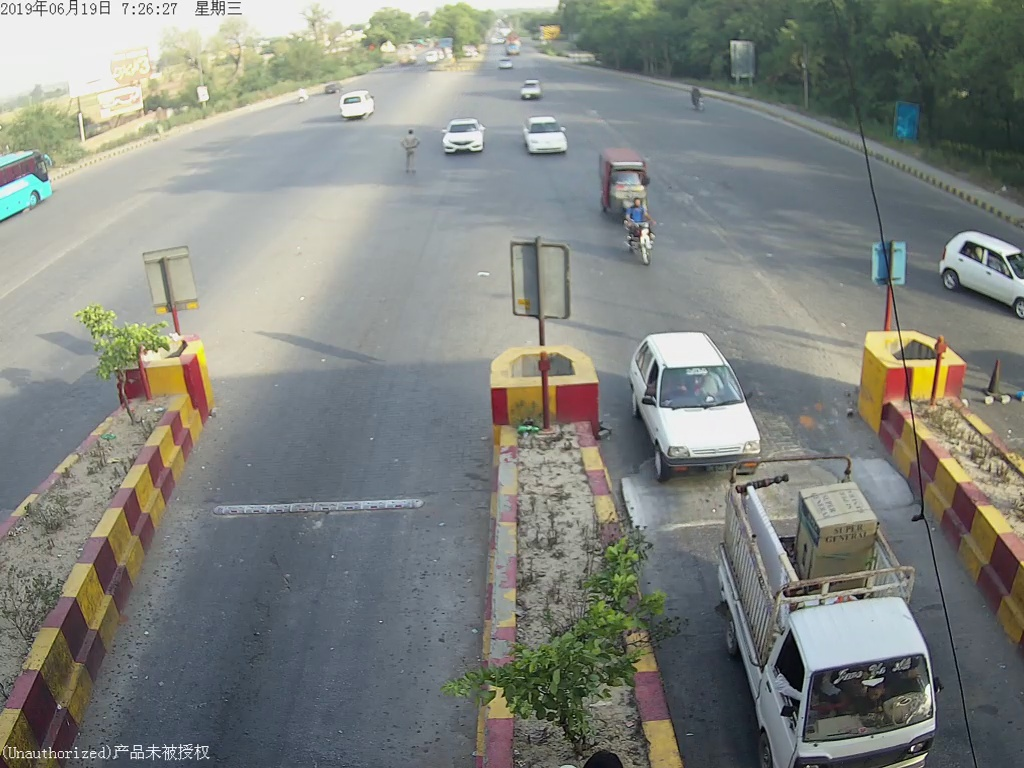Cat-1: (726, 472, 938, 764), (629, 320, 767, 455)
